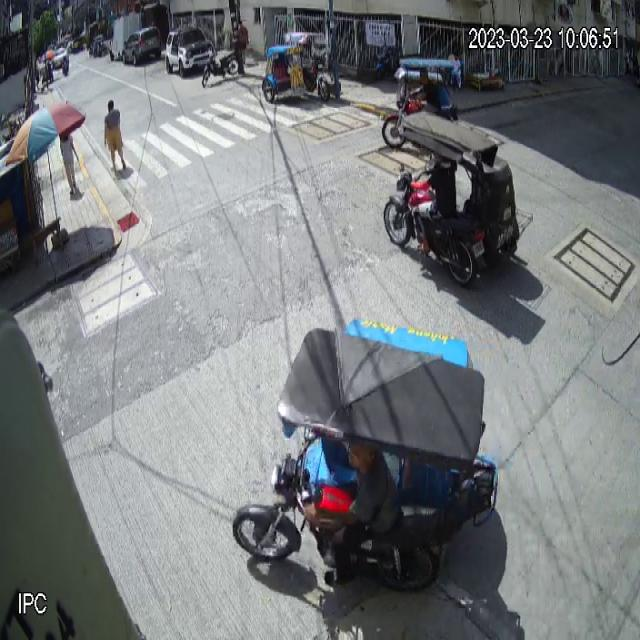Tricycle: (232, 316, 500, 592), (383, 110, 520, 285), (381, 57, 461, 146), (262, 31, 331, 103)
